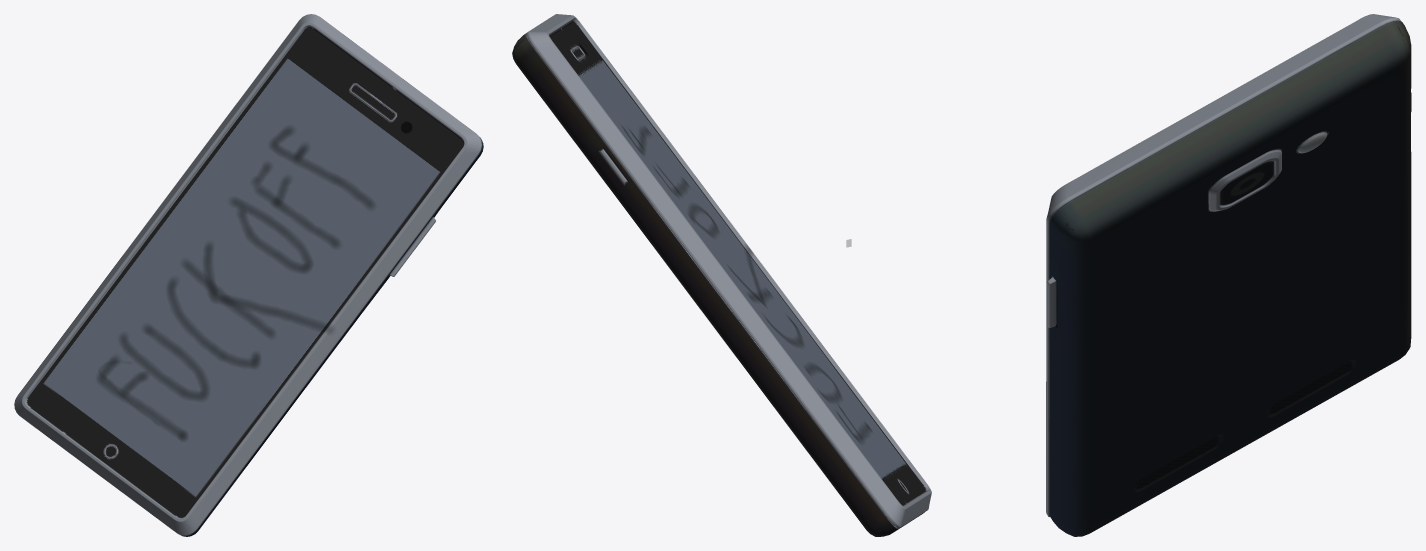
Rendered from phone.glb.
3 renders of one model, left to right at view 1: azimuth 30°, elevation 25°; view 2: azimuth 150°, elevation 25°; view 3: azimuth 270°, elevation 25°, orthographic. The views are drawn at different scales.
Parts seen in each view (by area): view 1: mesh_id193; view 2: mesh_id193; view 3: mesh_id193.
Boxes of the visible parts, x1,y1,x2,y2 form: mesh_id193: (14, 14, 483, 536); mesh_id193: (512, 14, 931, 536); mesh_id193: (1046, 14, 1411, 536).
Size of the model in its own units: 0.4458 by 0.4557 by 0.2672.
Materials: 2 (2 with a texture image).
